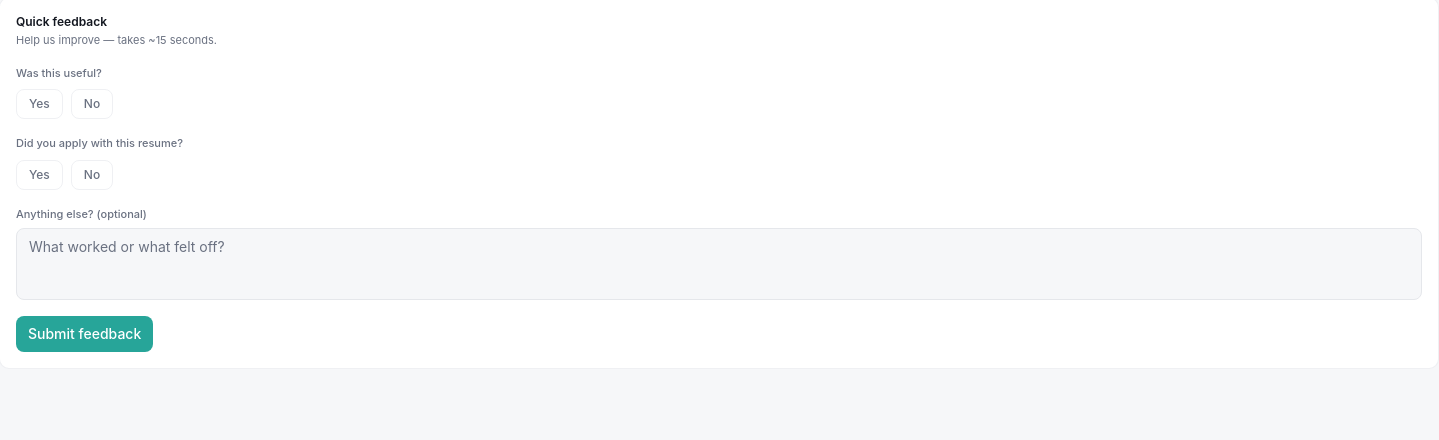
Test case: ReportFeedbackPanel › shows outcome choices when user applied
The image size is (1439, 440).
Step 1. Click the button "Yes" below "Was this useful?" → (39, 104), box x1=16 y1=89 x2=63 y2=119
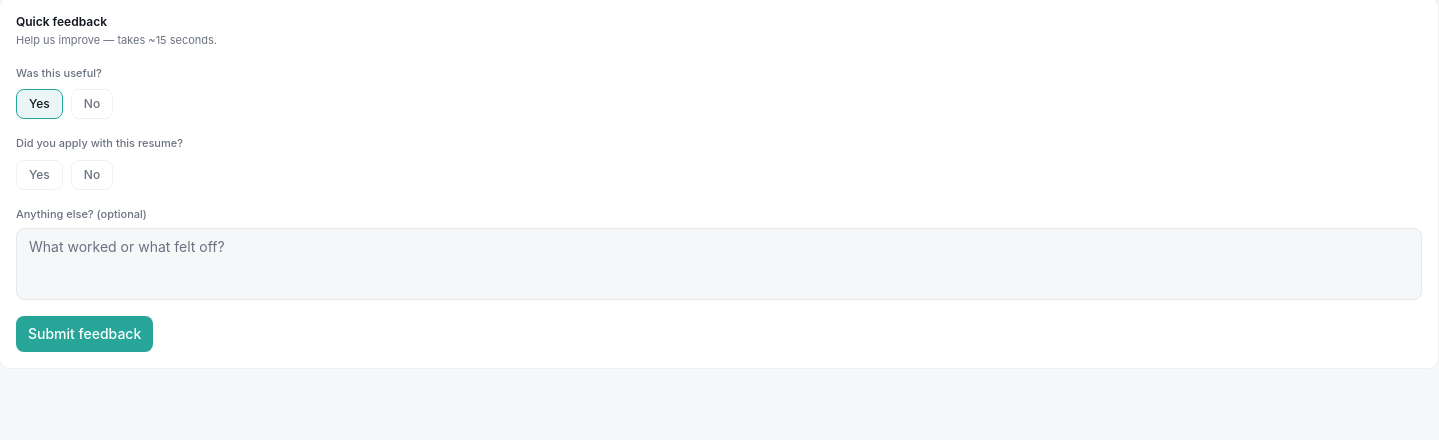
Step 2. Click the button "Yes" below "Did you apply with this resume?" → (39, 174), box x1=16 y1=160 x2=63 y2=190
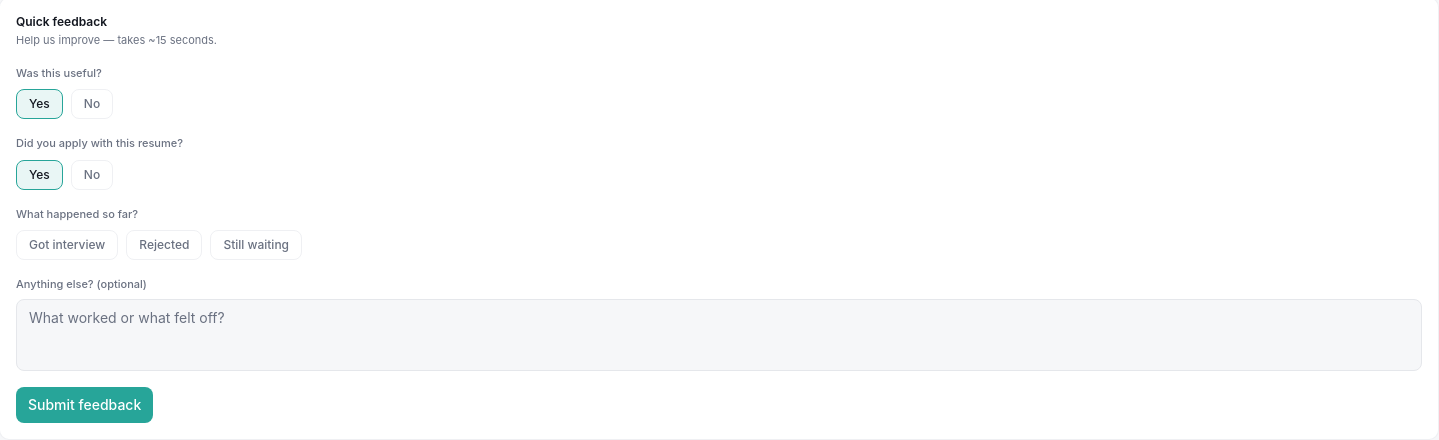
Expected: the text "What happened so far?" is shown, x1=16 y1=206 x2=138 y2=220
Expected: the button "Got interview" is shown, x1=16 y1=230 x2=118 y2=260
